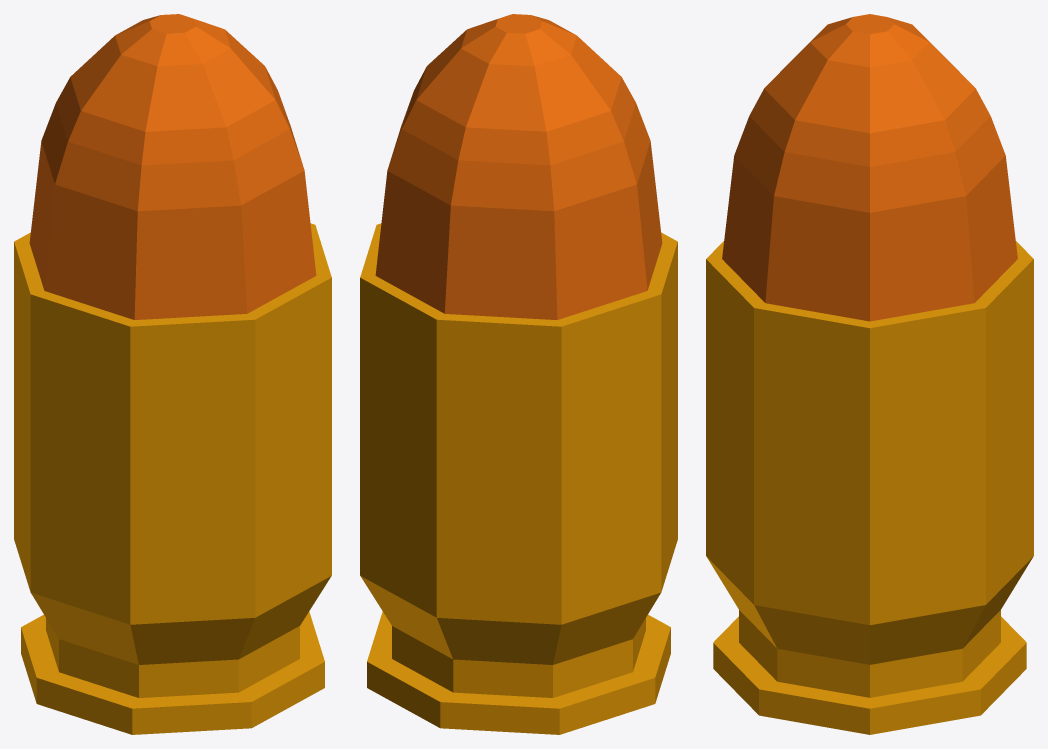
File: Boolet2.fbx
The picture shows the model from 3 angles, left to right: view 1: azimuth 30°, elevation 25°; view 2: azimuth 150°, elevation 25°; view 3: azimuth 270°, elevation 25°; orthographic projection.
Parts seen in each view (by area): view 1: Boolet; view 2: Boolet; view 3: Boolet.
Part boxes in pixels (box(x1,y1,x2,y2)): Boolet: box(14, 14, 331, 734); Boolet: box(360, 14, 677, 734); Boolet: box(706, 14, 1033, 734).
Bounding box in the file's own units: 85.6 × 186 × 85.6.
